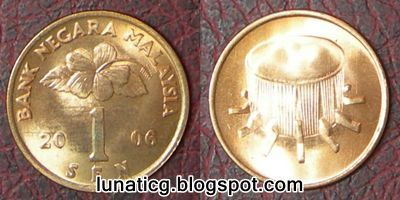1c: (4, 8, 190, 193), (207, 11, 390, 191)
